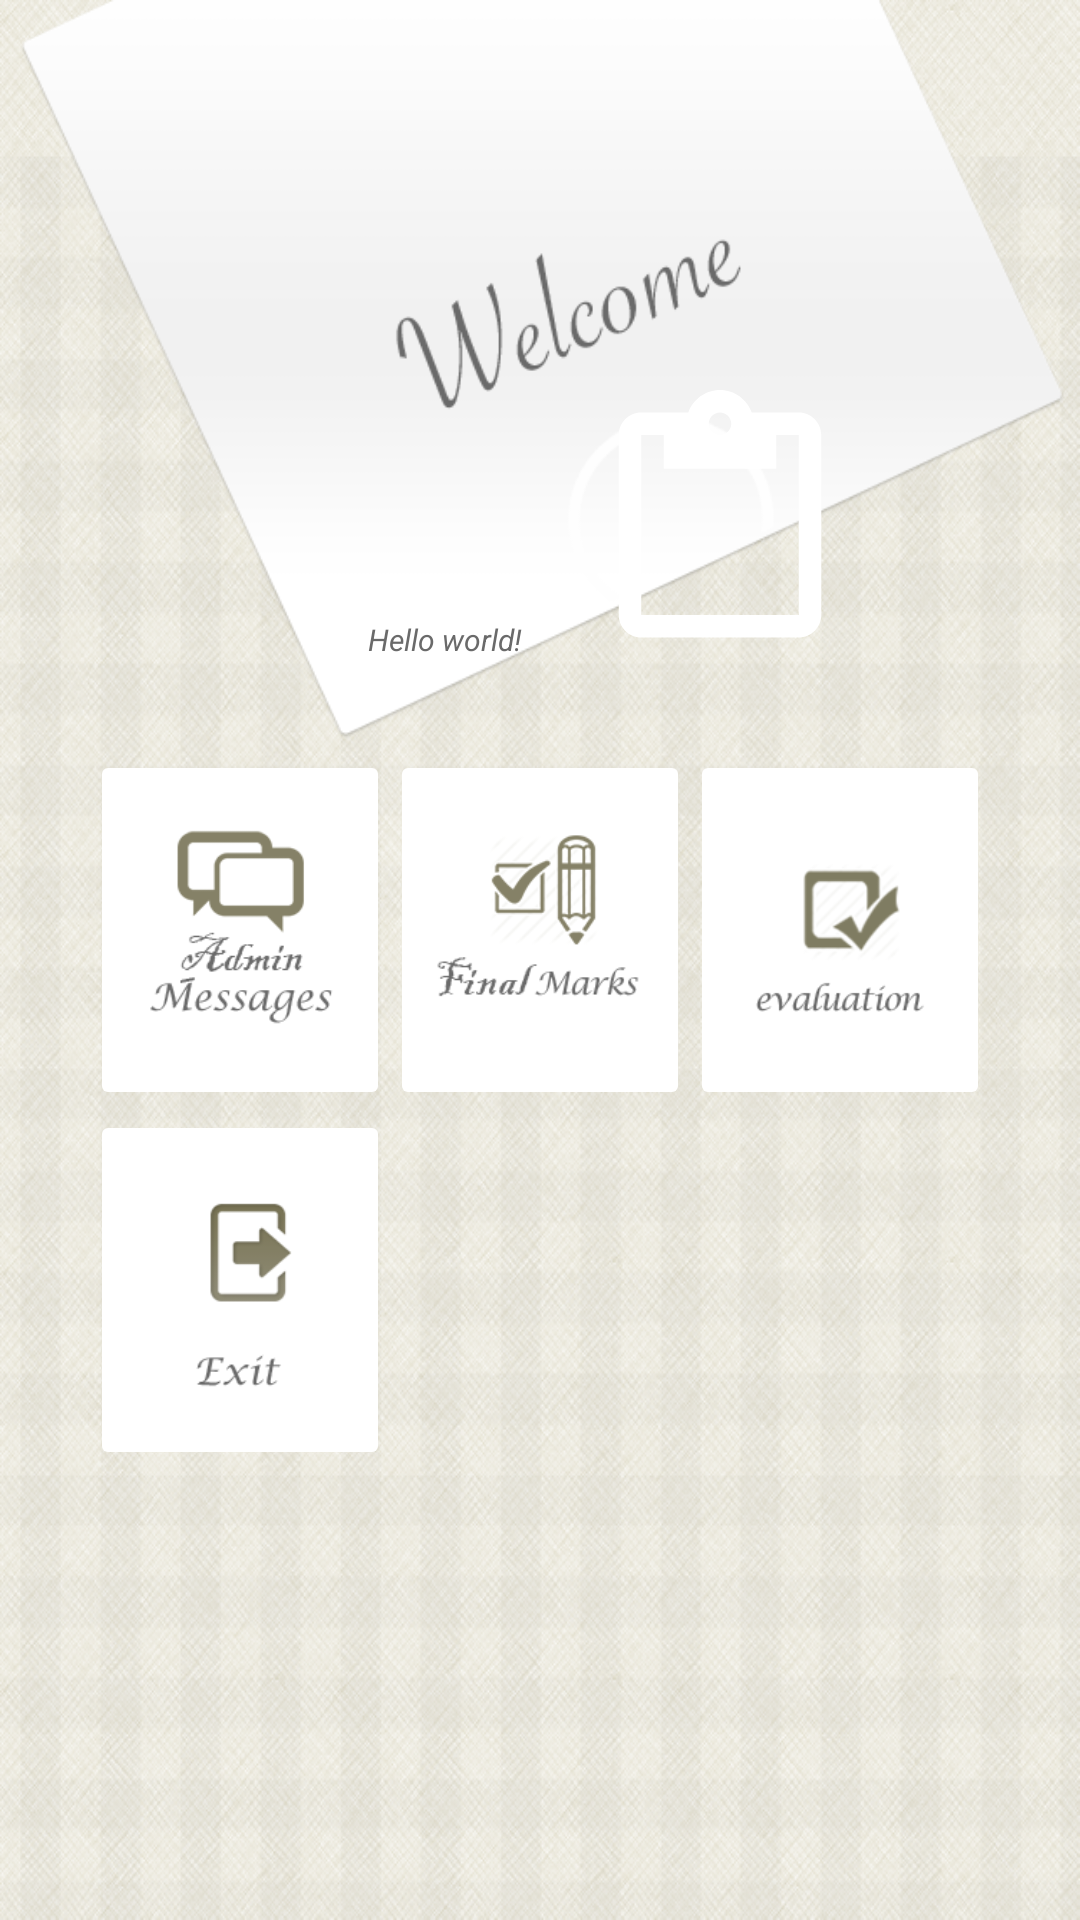

Where icons sit on this 1080px×1920px app screen, as [left=x1, top=y1, right=x2, bottom=y2]:
paste: [left=585, top=390, right=855, bottom=660]
